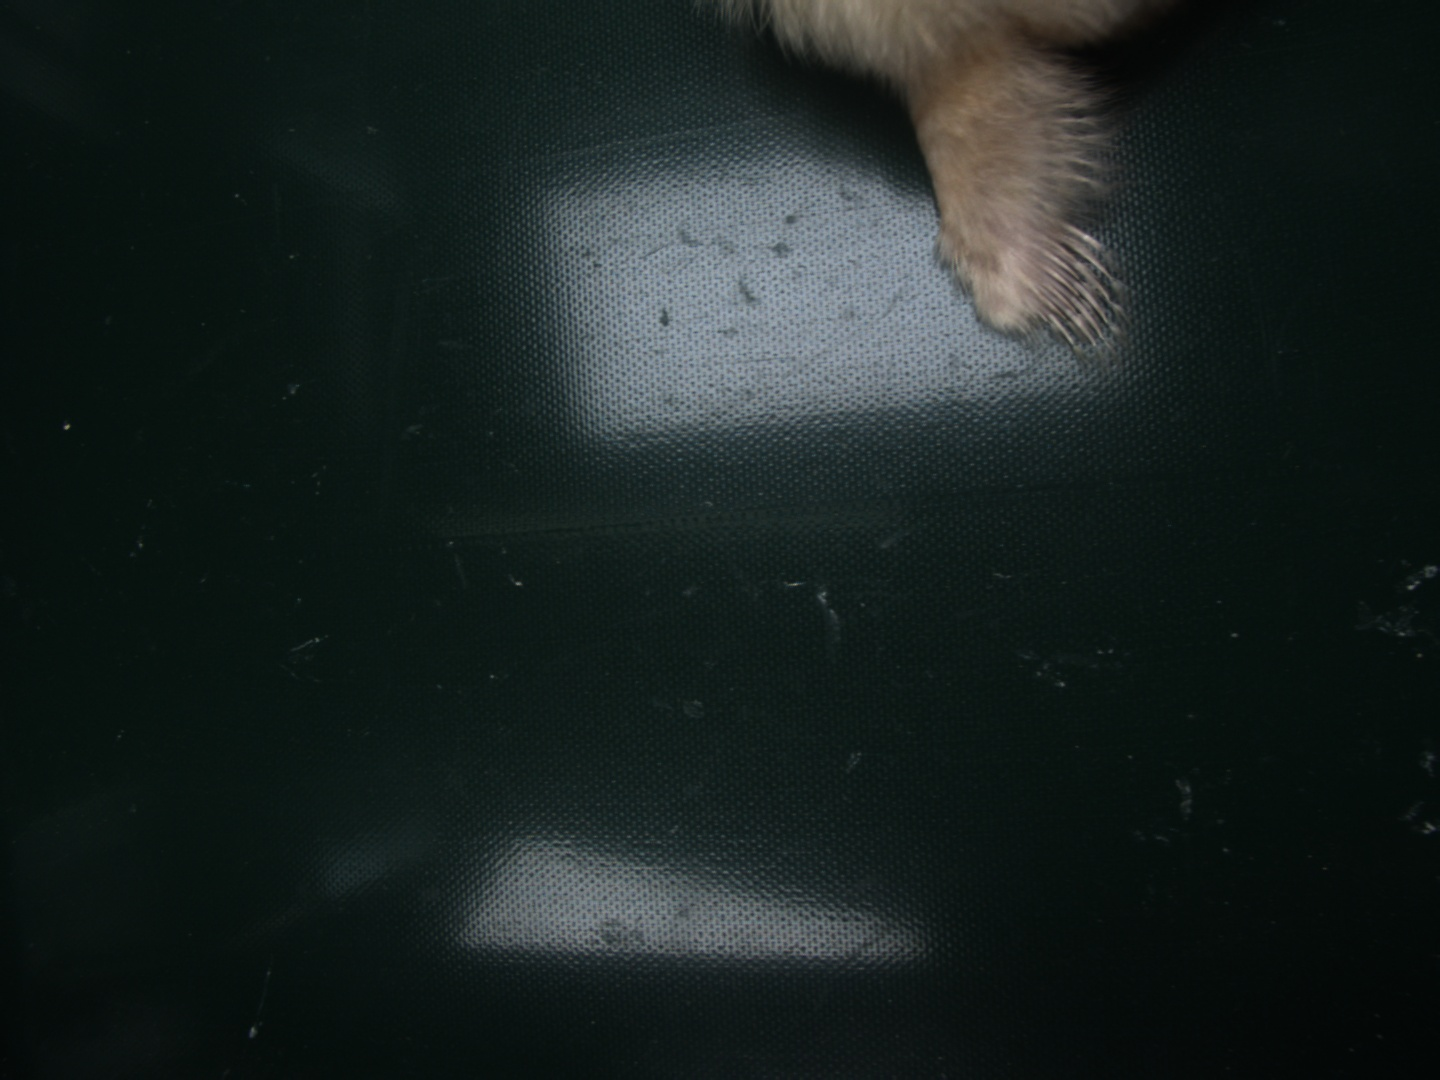female: (1034, 217, 1110, 348)
